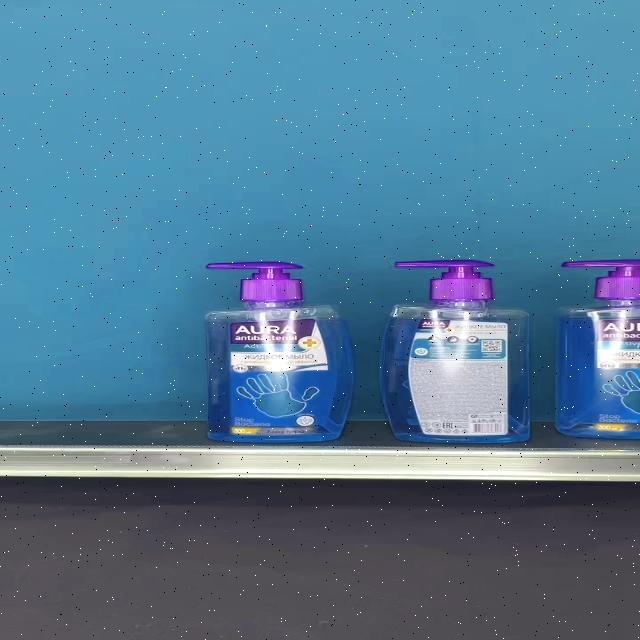Bottle: (378, 260, 531, 443), (203, 262, 353, 441)
Cap: (395, 260, 493, 302), (204, 262, 304, 302)
